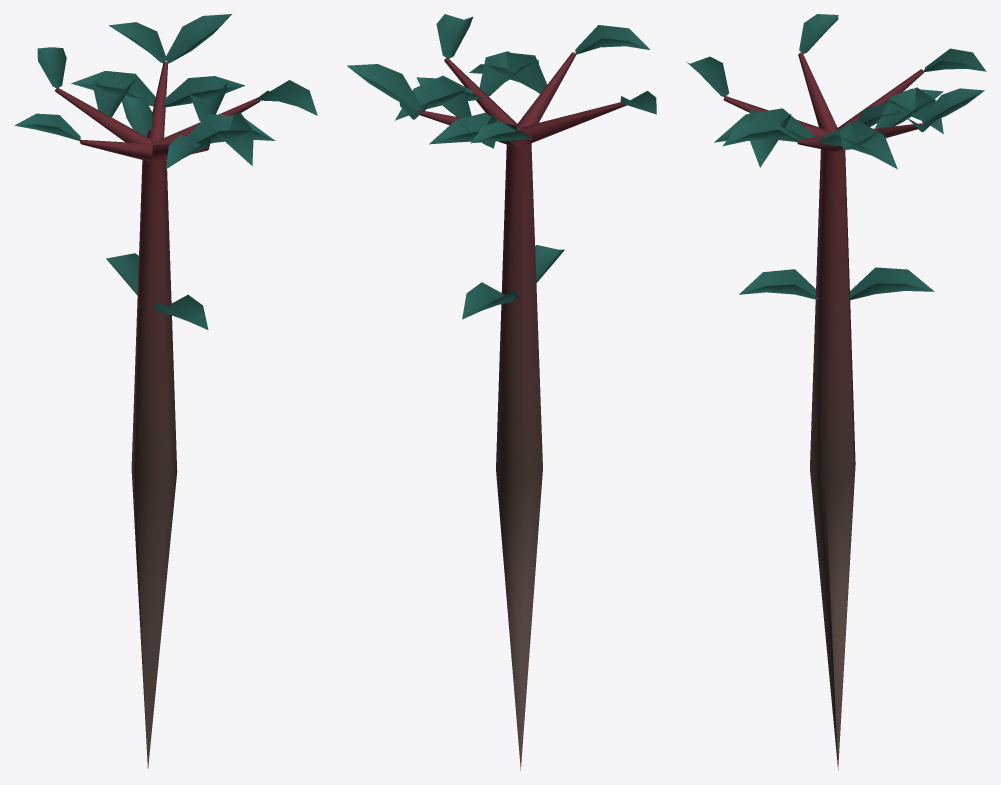
The model's file is plants-leafy-plants-tall-sprout_v1.glb.
3 renders of one model, left to right at view 1: azimuth 30°, elevation 25°; view 2: azimuth 150°, elevation 25°; view 3: azimuth 270°, elevation 25°, orthographic.
Visible parts, largest first — view 1: Tall Sprout_v1; view 2: Tall Sprout_v1; view 3: Tall Sprout_v1.
Boxes of the visible parts, x1=… form: Tall Sprout_v1: x1=14, y1=14, x2=317, y2=768; Tall Sprout_v1: x1=347, y1=14, x2=656, y2=770; Tall Sprout_v1: x1=686, y1=14, x2=986, y2=770.
Size of the model in its own units: 0.3158 by 0.8 by 0.3096.
